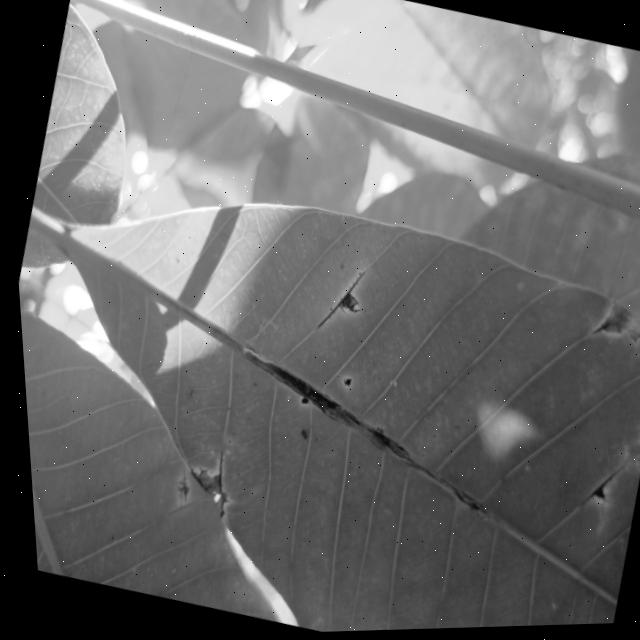Colletotrichum: (294, 397, 304, 406), (338, 379, 347, 387), (331, 376, 333, 378)
Corynespora: (309, 264, 367, 338), (569, 462, 619, 518), (166, 470, 188, 509)
Leaf-Blight: (180, 466, 231, 520), (596, 300, 640, 351)
